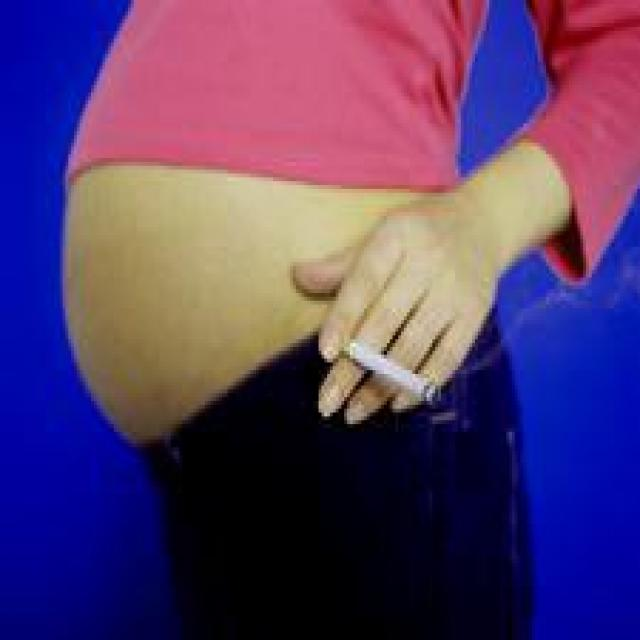smoke: (322, 312, 455, 440)
